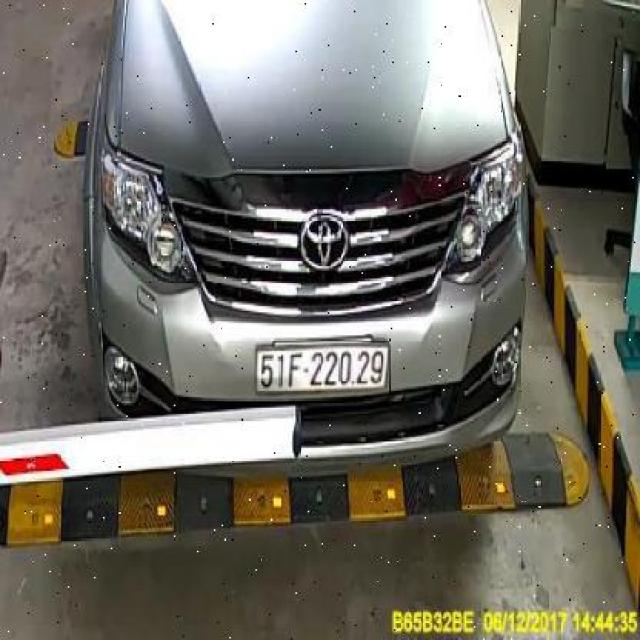number_plate: (255, 340, 391, 395)
